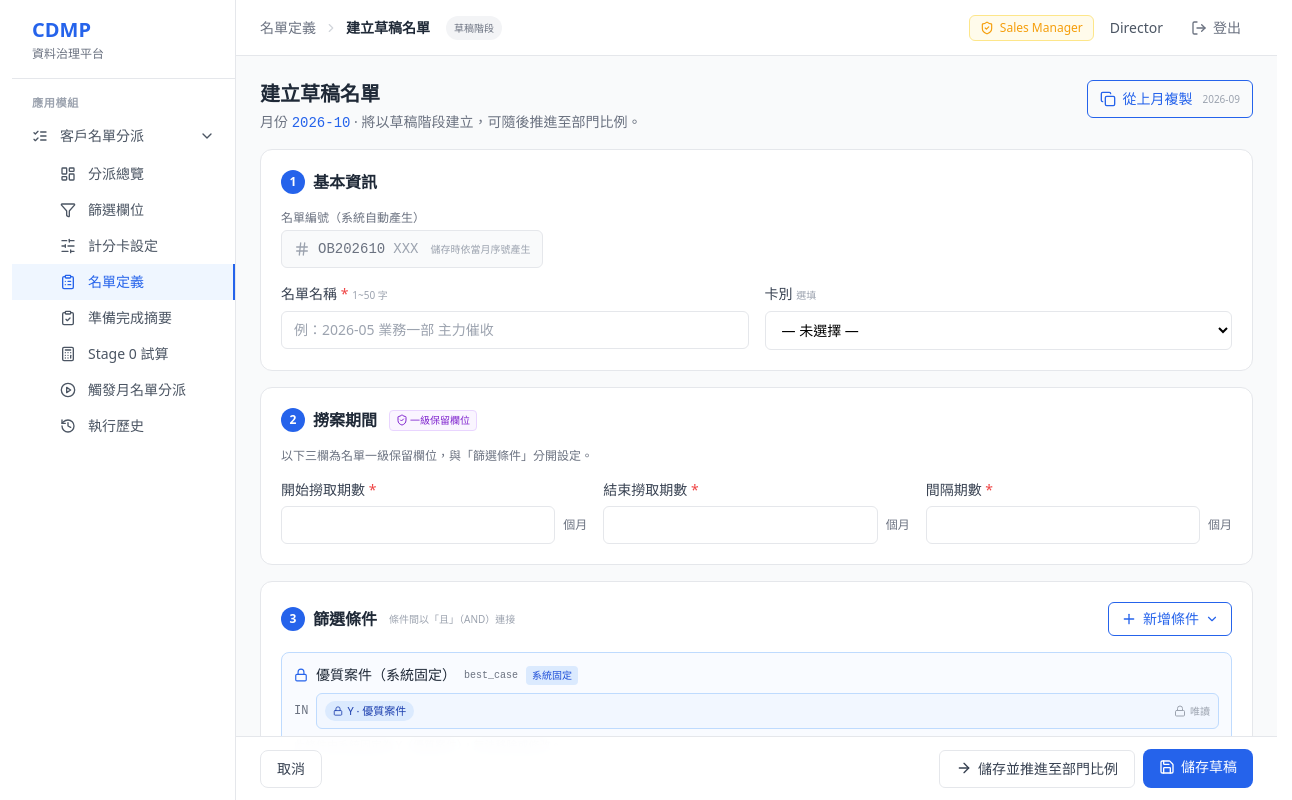
it: ListCreateDraftPage v2.1 (Phase 5d 波 8) › lc.test#4: 無（非系統固定）條件提交 → 顯示最低條件數錯誤 + createList 不被呼叫
This screenshot has width=1292, height=800.
In the field with test id "input-listNm": (515, 330) [281,311,748,349], type "測試名單"
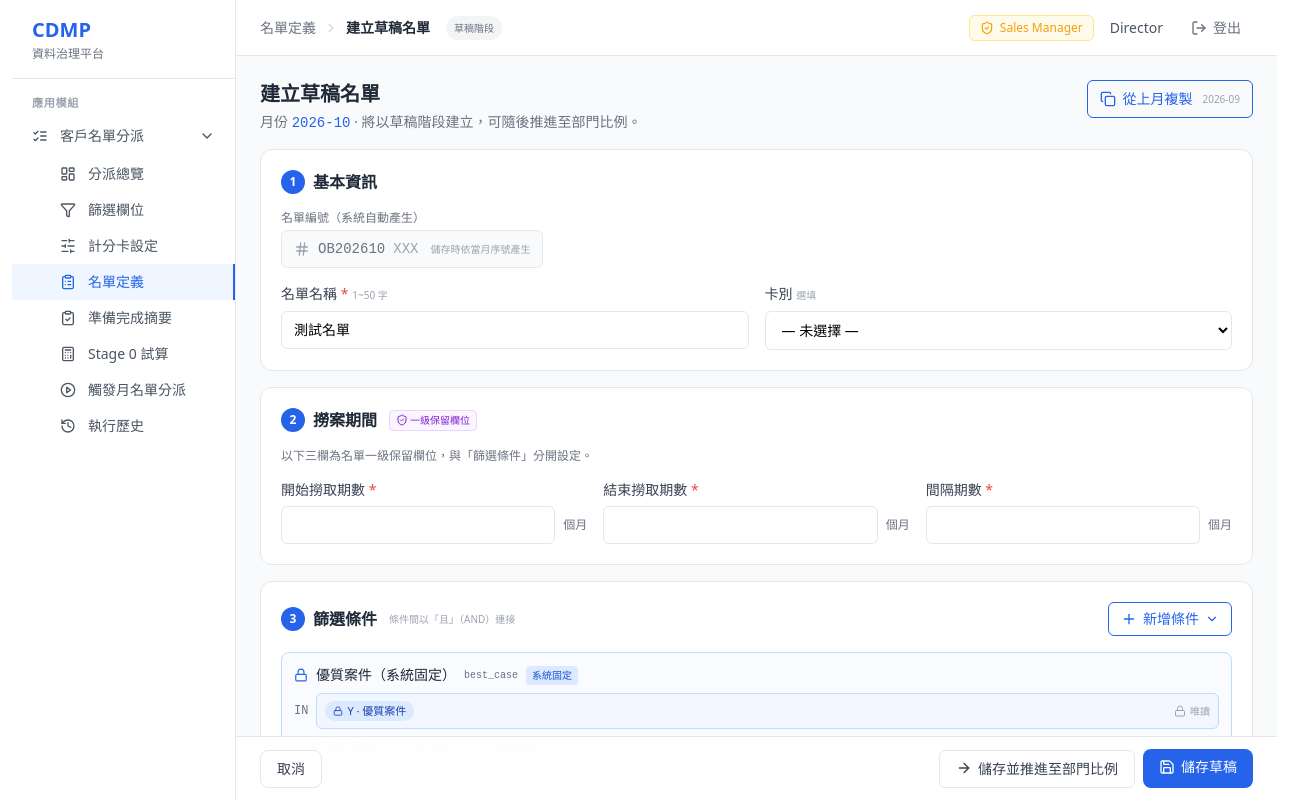
In the number field with test id "input-listPeriodStart": (418, 525) [281,506,555,544], type "1"
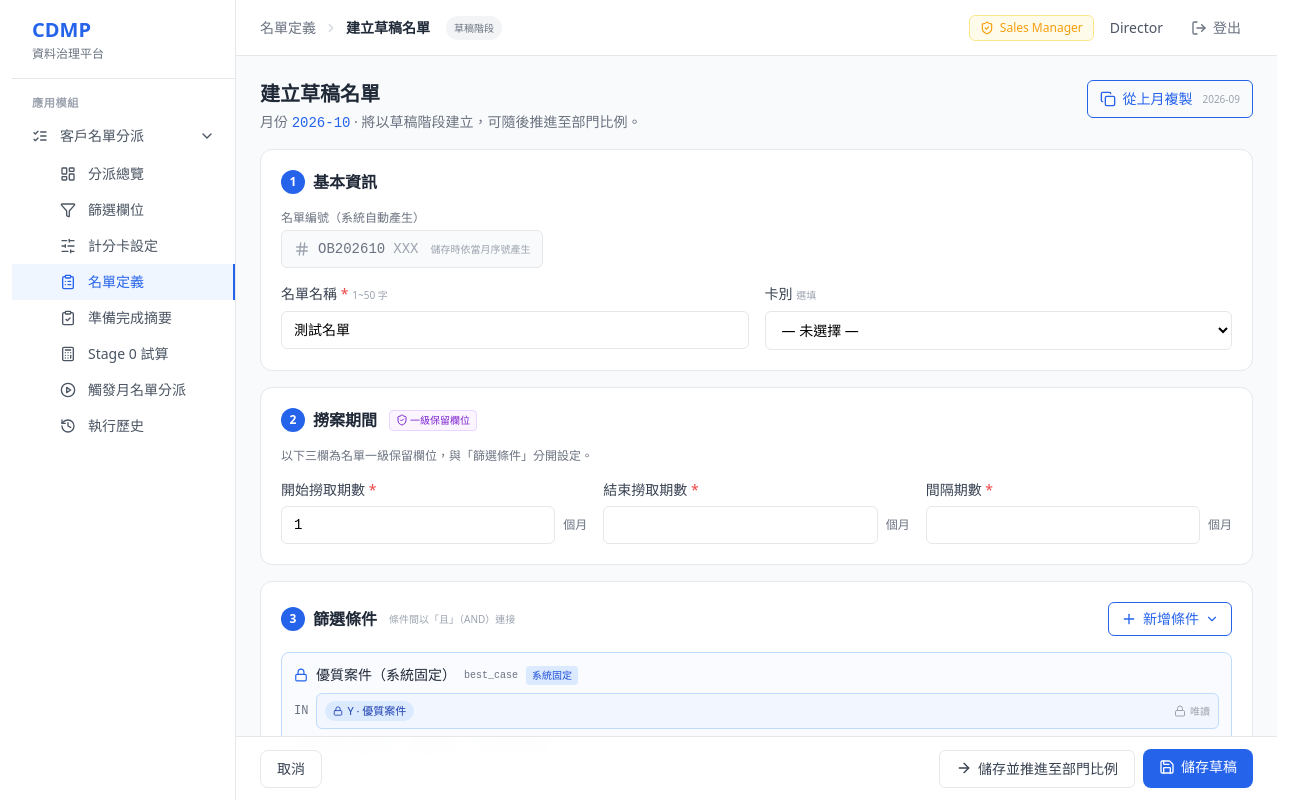
In the number field with test id "input-listPeriodEnd": (740, 525) [603,506,878,544], type "6"
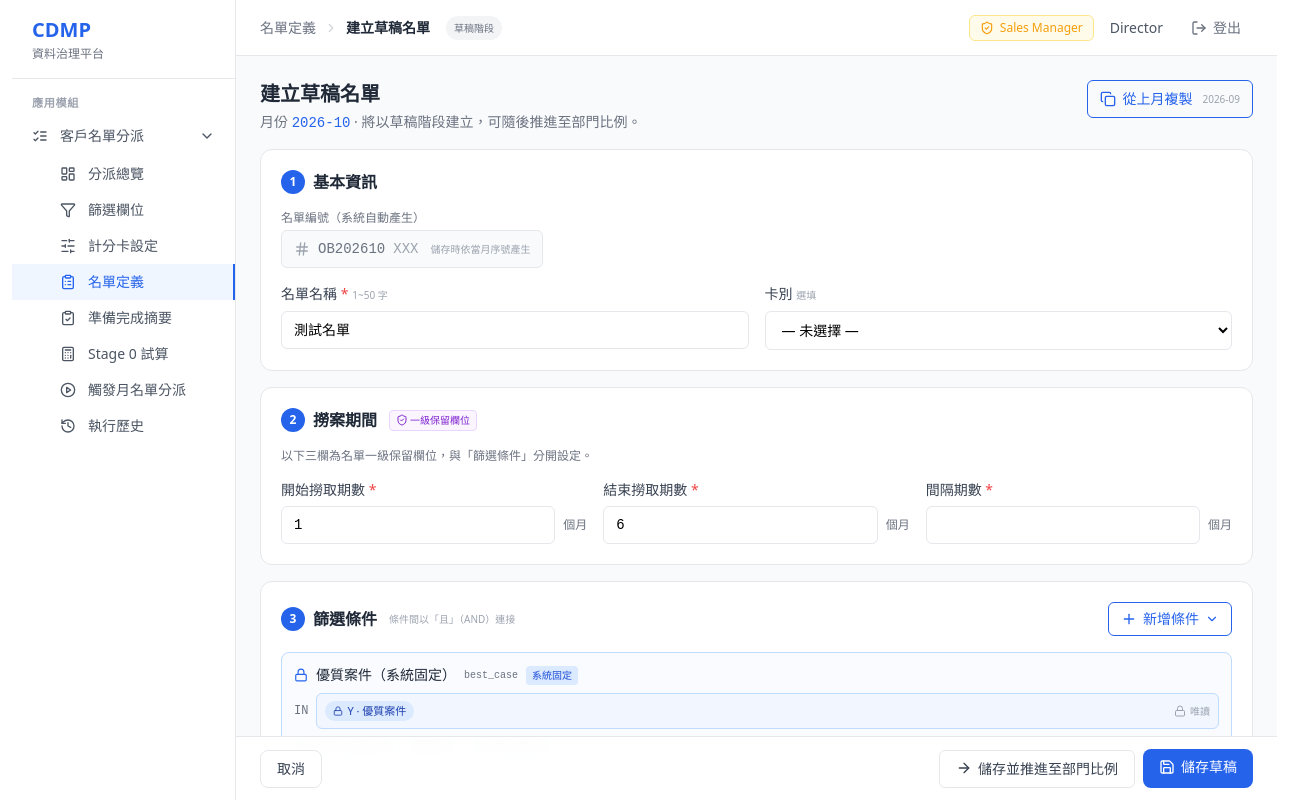
In the number field with test id "input-listInterval": (1063, 525) [926,506,1200,544], type "1"
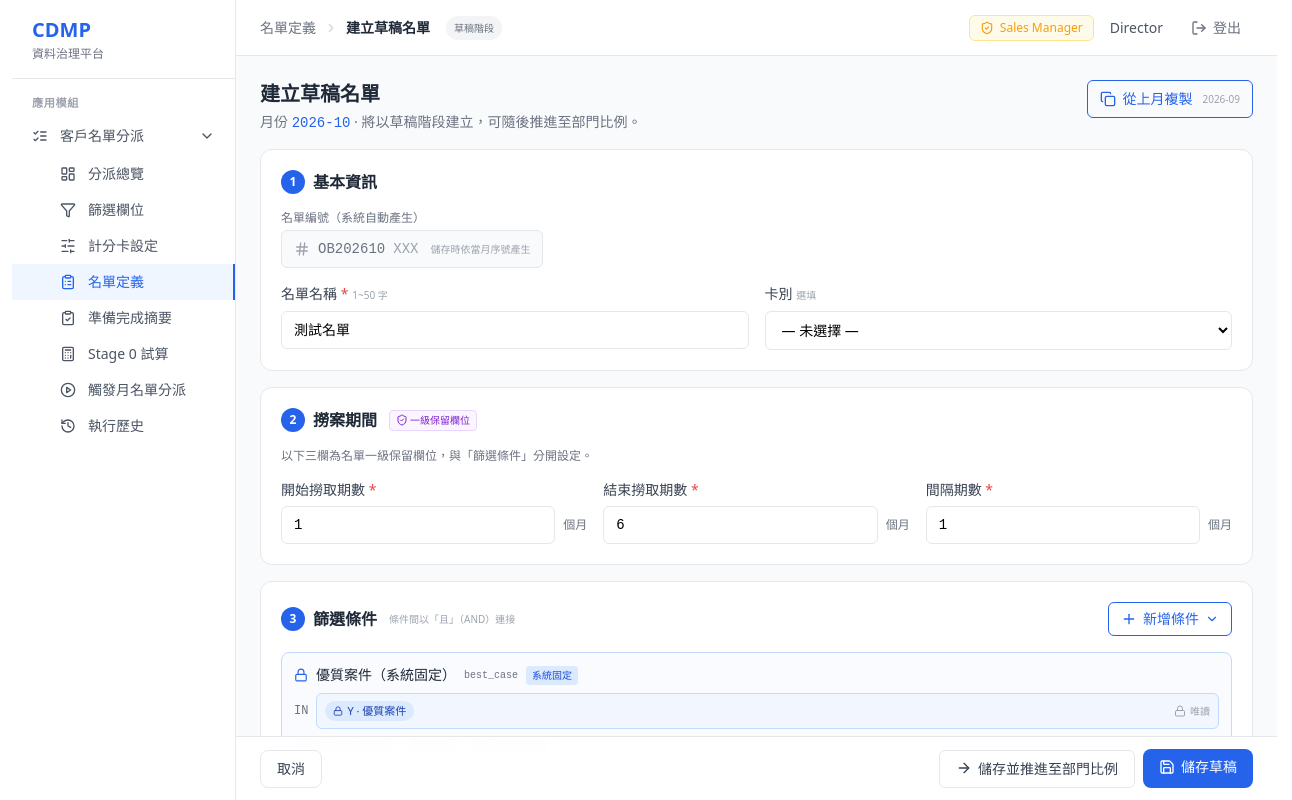
Click the button with test id "btn-save-draft": (1198, 768) [1143,749,1253,788]
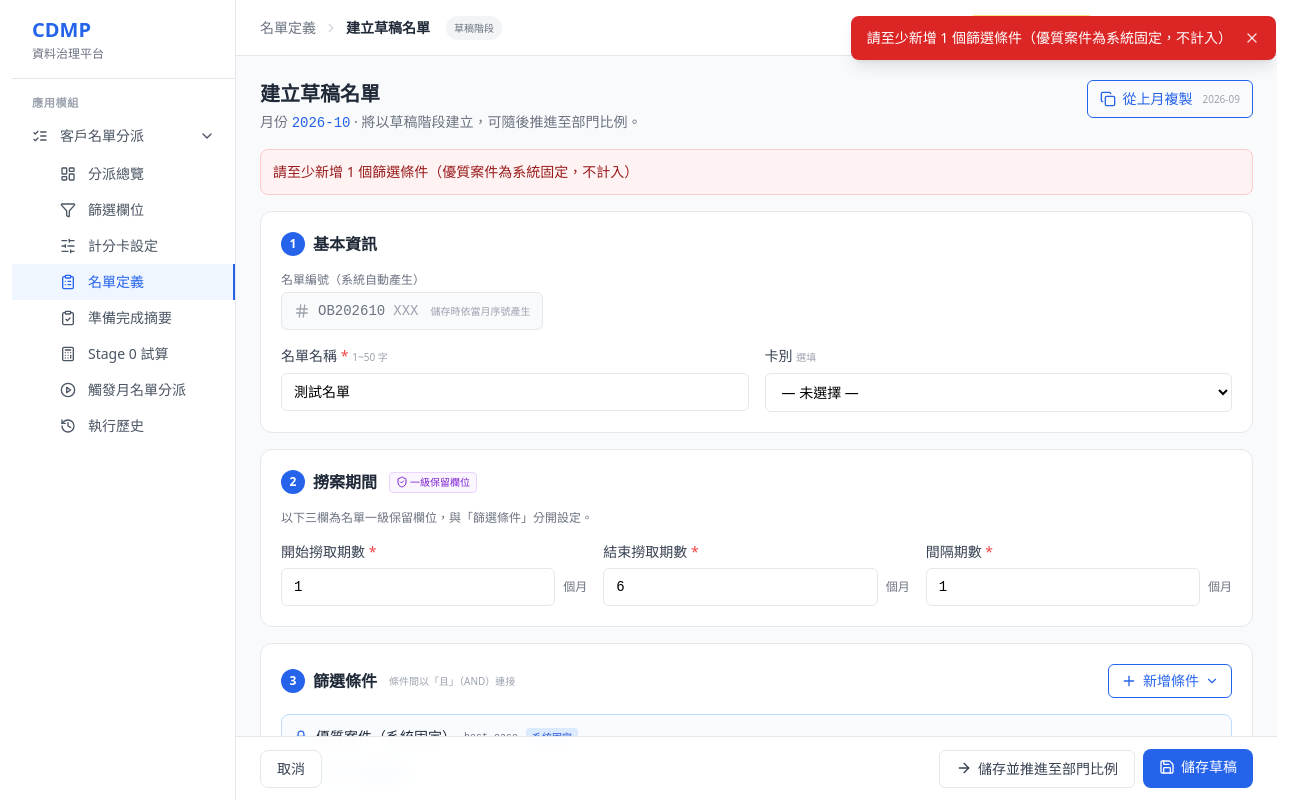
Check: the text with test id "form-error" reads "請至少新增 1 個篩選條件（優質案件為系統固定，不計入）", box [273,162,638,181]
